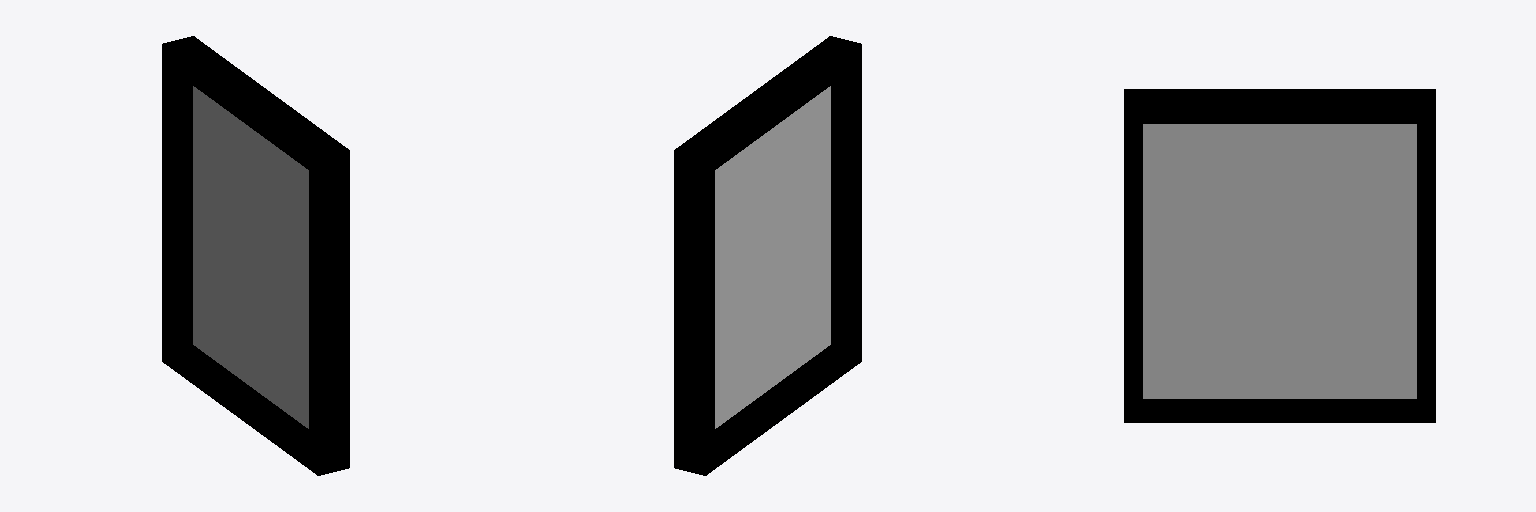
The model's file is Window.obj.
The picture shows the model from 3 angles: view 1: azimuth 30°, elevation 25°; view 2: azimuth 150°, elevation 25°; view 3: azimuth 270°, elevation 25°; orthographic projection.
Parts seen in each view (by area): view 1: CoreMaterialBuild.040_Cube.262; view 2: CoreMaterialBuild.040_Cube.262; view 3: CoreMaterialBuild.040_Cube.262.
Part boxes in pixels (left/top/right/bottom): CoreMaterialBuild.040_Cube.262: left=162, top=36, right=349, bottom=475; CoreMaterialBuild.040_Cube.262: left=674, top=36, right=861, bottom=475; CoreMaterialBuild.040_Cube.262: left=1124, top=89, right=1435, bottom=422.
Bounding box in the file's own units: 0.1282 × 1.25 × 1.11.